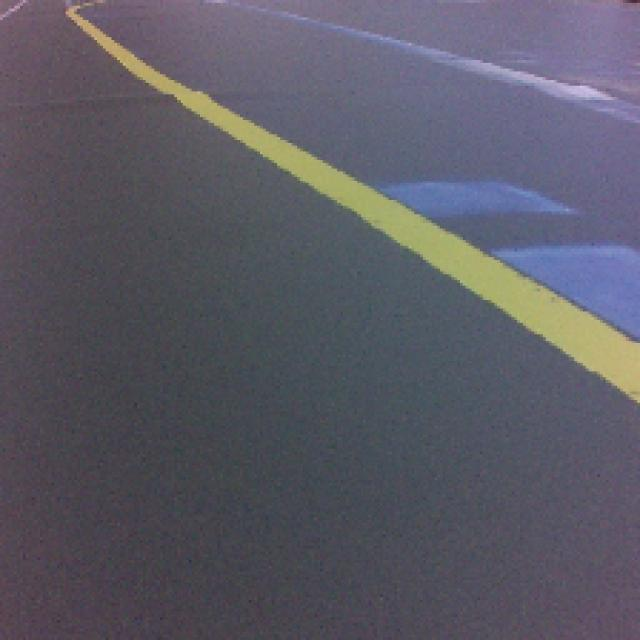Road: (0, 336, 640, 640)
